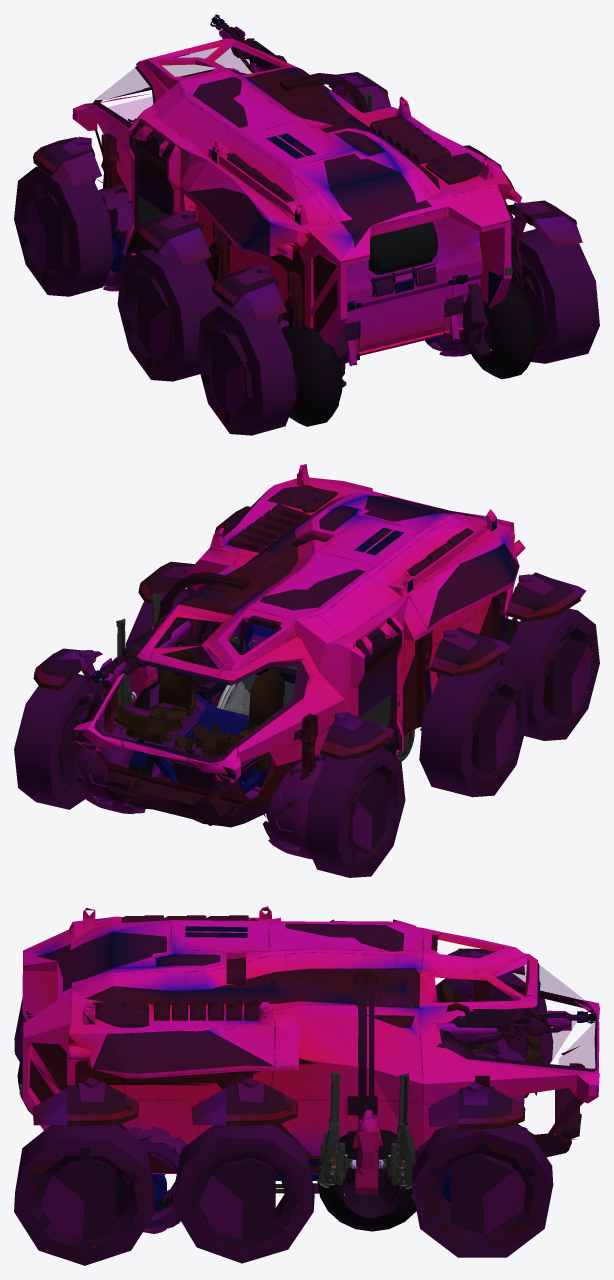
The model's file is fahrzeug.glb.
3 views of the same model, one above another, from view 1: azimuth 30°, elevation 25°; view 2: azimuth 150°, elevation 25°; view 3: azimuth 270°, elevation 25° (orthographic). The views are drawn at different scales.
Parts seen in each view (by area): view 1: prop_fahrzeug_rsi_ursa_rover, prop_fahrzeug_grin_roc, prop_fahrzeug_tmbl_cyclone; view 2: prop_fahrzeug_rsi_ursa_rover, prop_fahrzeug_tmbl_cyclone, prop_fahrzeug_grin_roc, prop_fahrzeug_grin_ptv; view 3: prop_fahrzeug_rsi_ursa_rover, prop_fahrzeug_grin_roc, prop_fahrzeug_tmbl_cyclone.
Part boxes in pixels (box(x1,y1,x2,y2)): prop_fahrzeug_rsi_ursa_rover: box(14, 38, 599, 435); prop_fahrzeug_grin_roc: box(125, 14, 537, 426); prop_fahrzeug_tmbl_cyclone: box(98, 184, 485, 356); prop_fahrzeug_rsi_ursa_rover: box(14, 464, 599, 877); prop_fahrzeug_tmbl_cyclone: box(76, 620, 505, 859); prop_fahrzeug_grin_roc: box(90, 617, 519, 767); prop_fahrzeug_grin_ptv: box(216, 667, 414, 761); prop_fahrzeug_rsi_ursa_rover: box(14, 906, 599, 1265); prop_fahrzeug_grin_roc: box(17, 954, 596, 1231); prop_fahrzeug_tmbl_cyclone: box(125, 1037, 524, 1233).
Bounding box in the file's own units: 5.49 × 3.23 × 7.62.
Materials: 40 (22 with a texture image).
